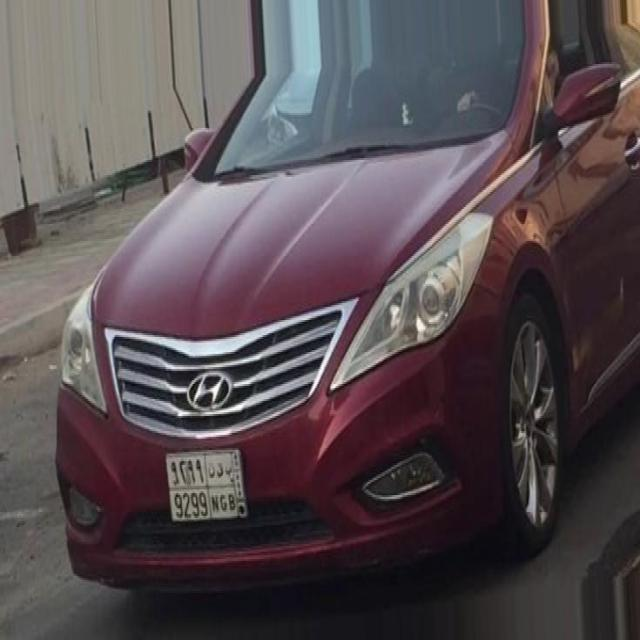Car-plate: (162, 438, 258, 542)
